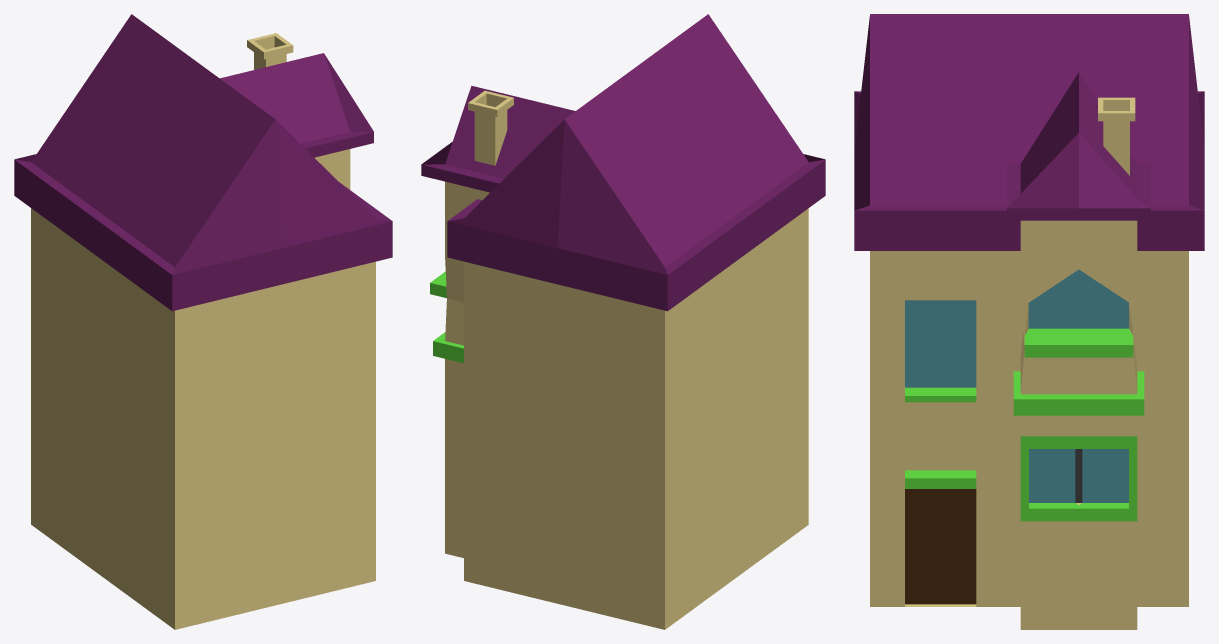
File: House_2.glb
3 renders of one model, left to right at view 1: azimuth 30°, elevation 25°; view 2: azimuth 150°, elevation 25°; view 3: azimuth 270°, elevation 25°, orthographic. The views are drawn at different scales.
Parts seen in each view (by area): view 1: House2; view 2: House2; view 3: House2.
Part boxes in pixels (x1=…): House2: x1=14, y1=14, x2=392, y2=629; House2: x1=421, y1=14, x2=825, y2=629; House2: x1=854, y1=14, x2=1204, y2=629.
Size of the model in its own units: 3.54 by 6.08 by 3.58.
